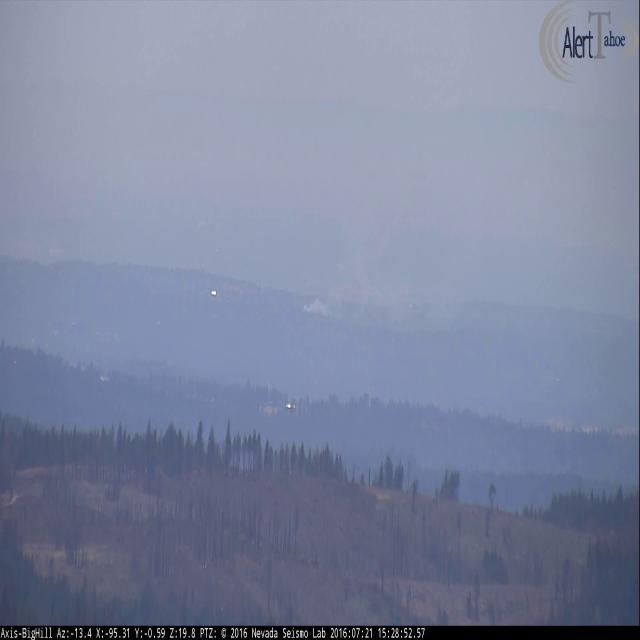smoke: (302, 213, 463, 331)
